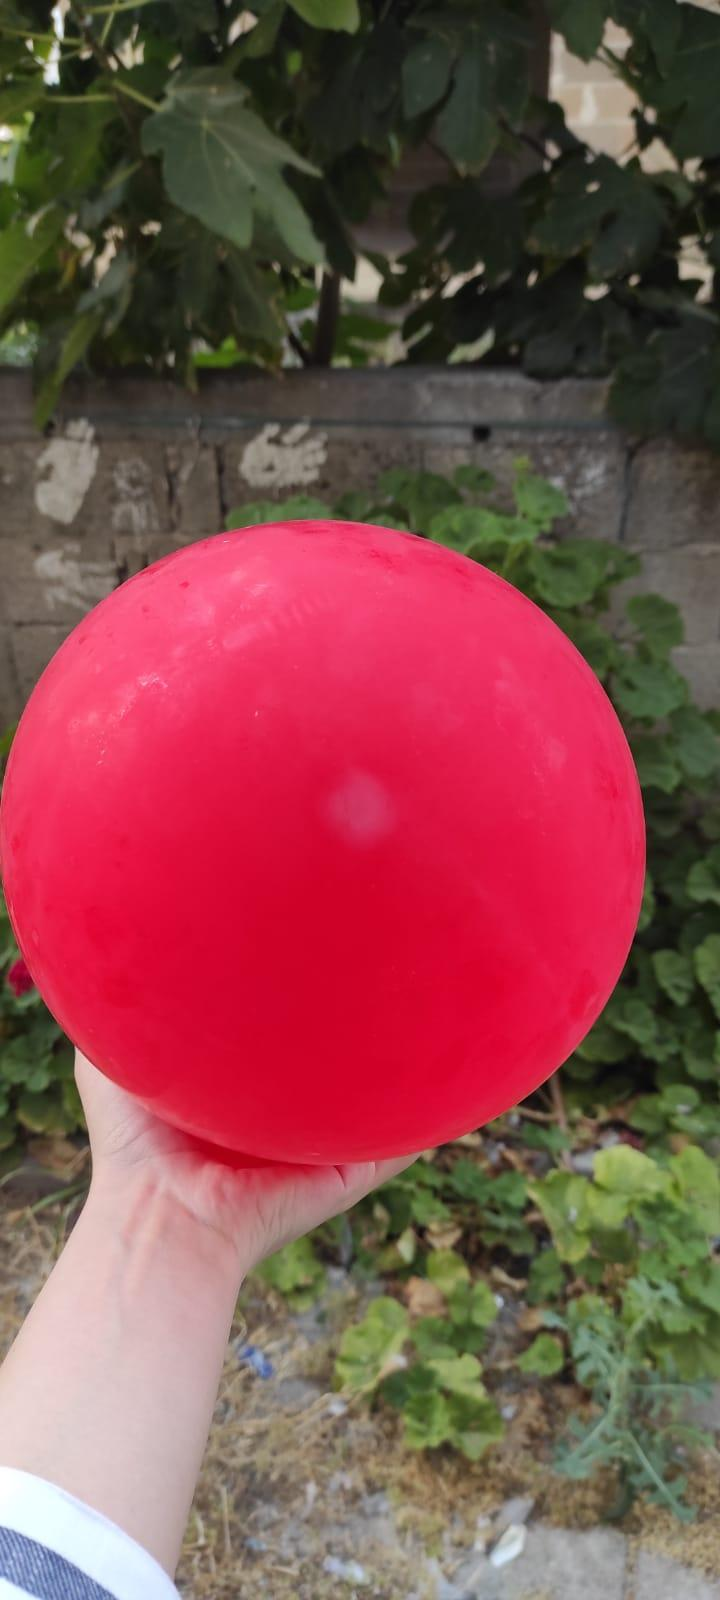red: (0, 510, 651, 1162)
